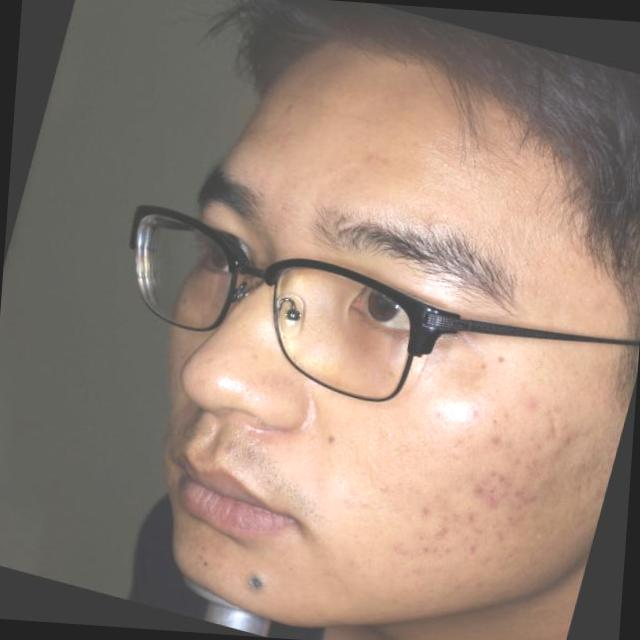acne: (542, 425, 584, 468), (452, 474, 498, 508), (483, 462, 525, 499), (531, 472, 567, 498), (512, 386, 543, 414), (479, 426, 510, 454), (458, 512, 493, 536), (414, 496, 441, 524)
